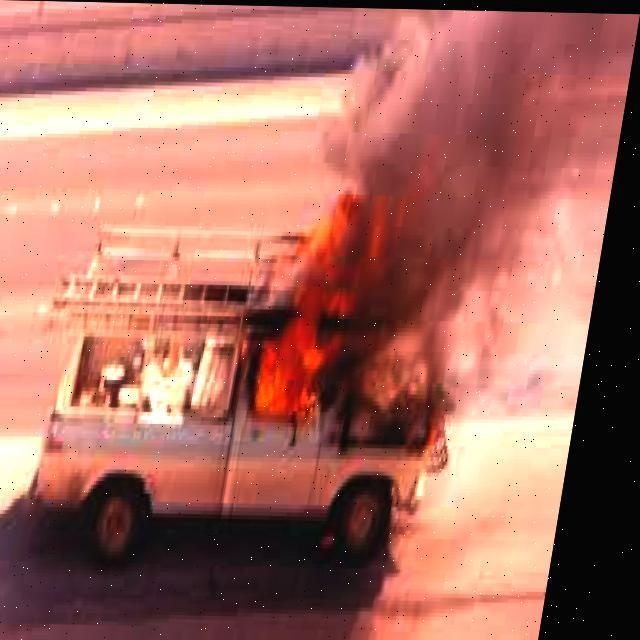Fire: (257, 176, 452, 428)
